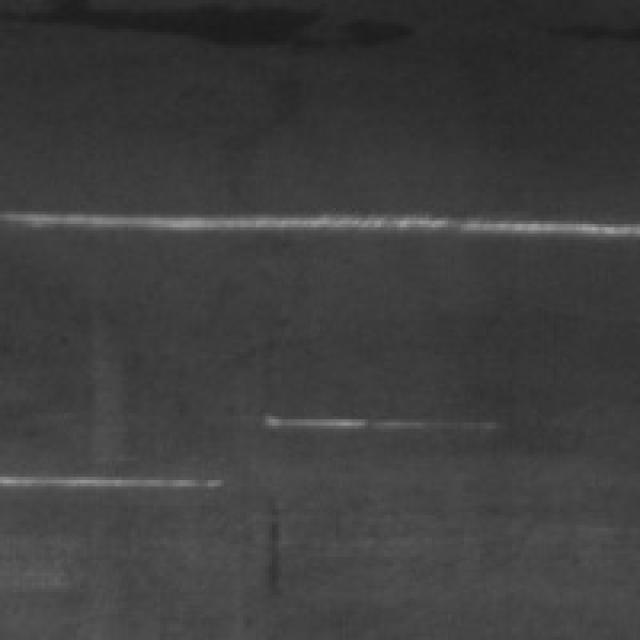inclusion: (250, 483, 288, 602)
scratches: (6, 192, 637, 253), (0, 458, 221, 496), (256, 400, 493, 429)
